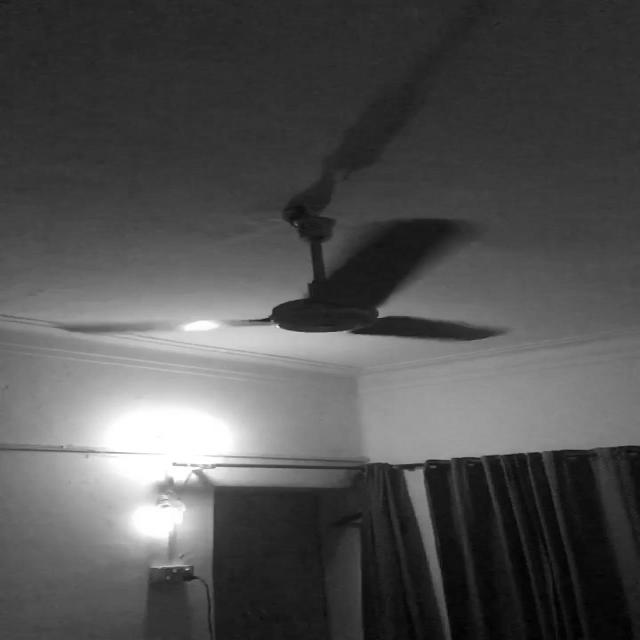fan: (33, 207, 540, 358)
